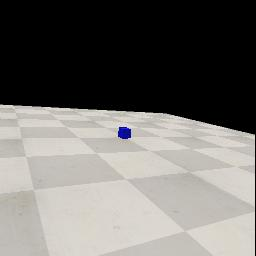box: (118, 127, 131, 139)
